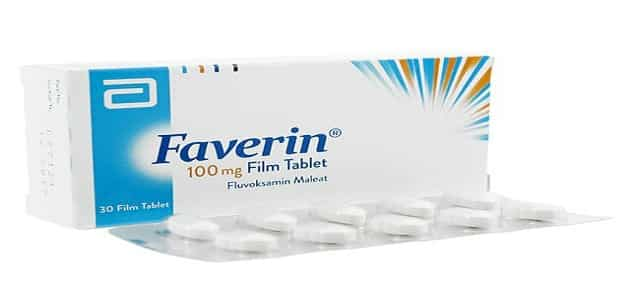Medicine: (47, 53, 498, 235)
